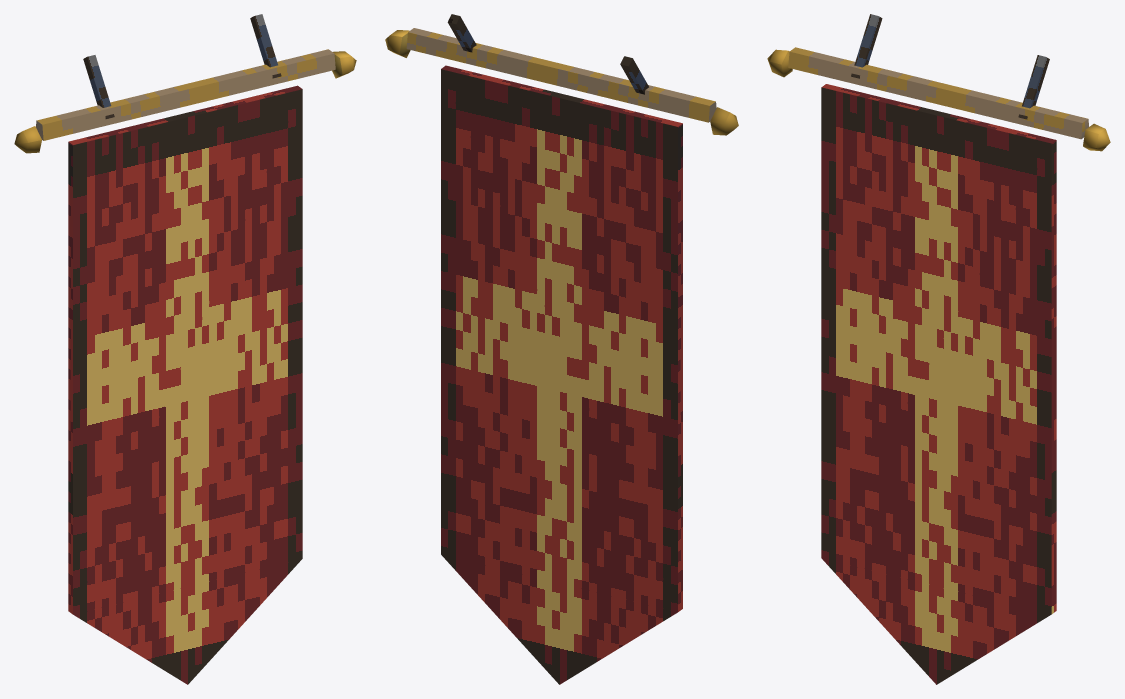
File: cst.banner__cross.glb
3 renders of one model, left to right at view 1: azimuth 30°, elevation 25°; view 2: azimuth 150°, elevation 25°; view 3: azimuth 330°, elevation 25°, orthographic. The views are drawn at different scales.
Visible parts, largest first — view 1: kit_cloth, kit_pole; view 2: kit_cloth, kit_pole; view 3: kit_cloth, kit_pole.
Boxes of the visible parts, x1,y1,x2,y2 form: kit_cloth: (68,85,302,684); kit_pole: (14,14,356,153); kit_cloth: (441,65,682,684); kit_pole: (385,14,738,135); kit_cloth: (821,84,1056,684); kit_pole: (767,14,1110,151).
Size of the model in its own units: 1.64 by 2.91 by 0.2132.
4 materials, 3 textured.
